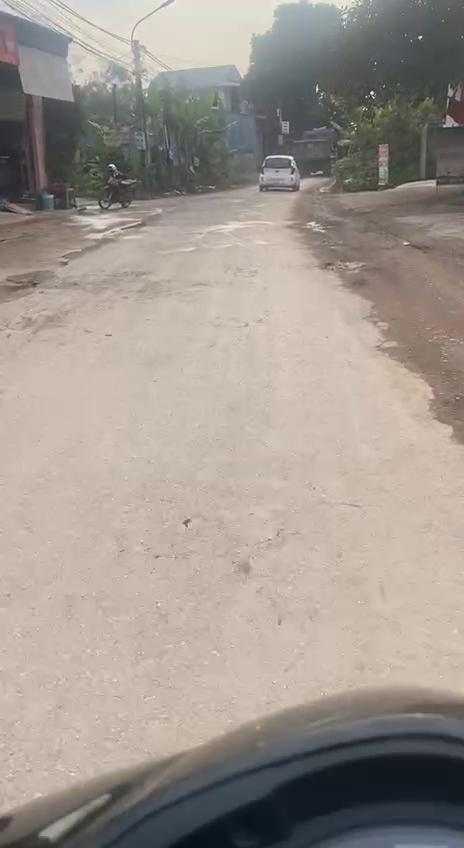pothole: (361, 314, 464, 442), (321, 256, 371, 275), (303, 219, 328, 235)
